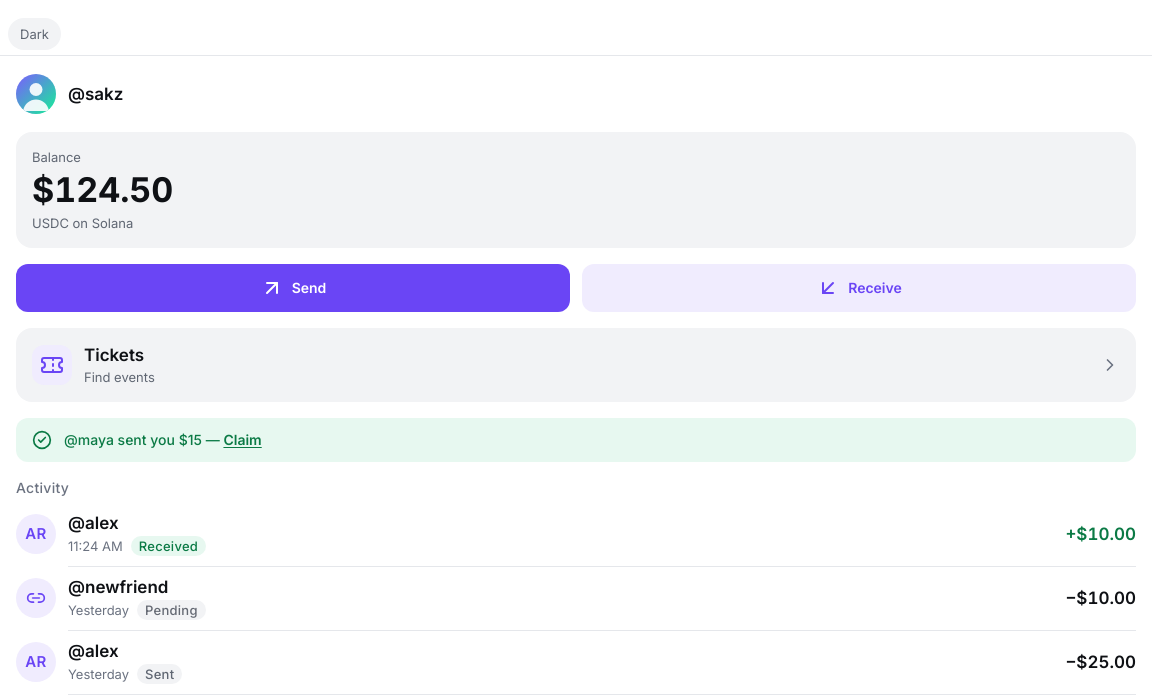
S10 activity detail › completed payment shows amount, counterparty, fee and note
Click the button with aria-label "Received 10 dollars from @alex" at coordinates (36, 534), box 16,502 -> 1136,566
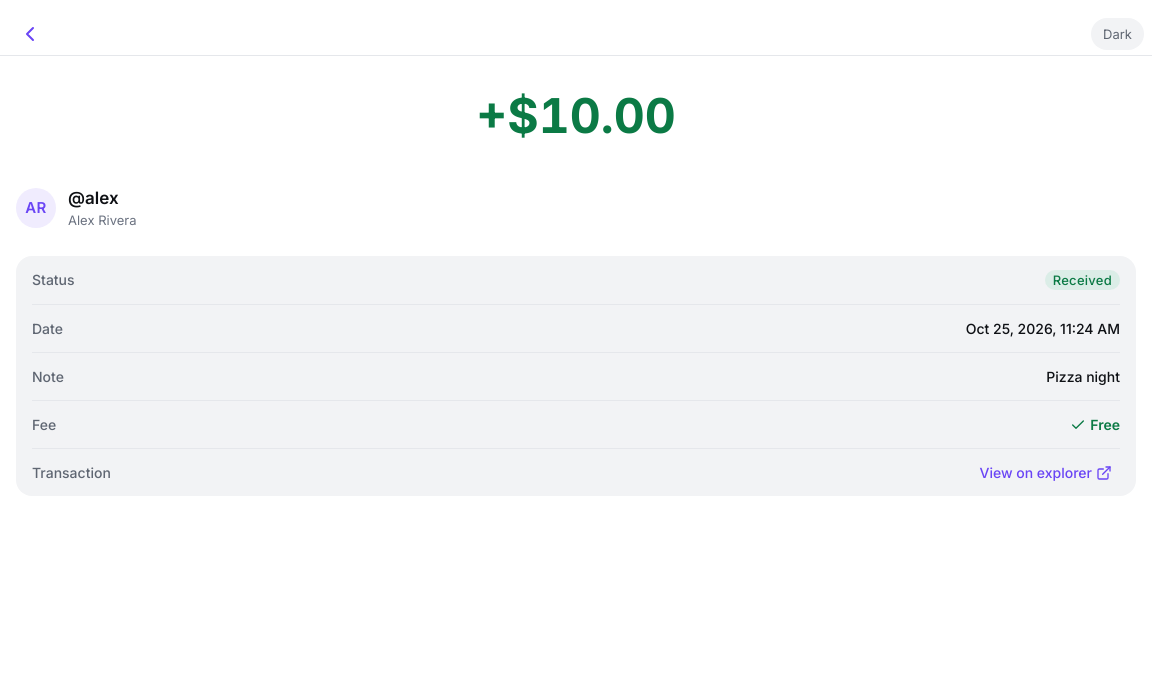
Expected: the text "Pizza night" is shown, 1046,366 -> 1120,386
Expected: the text "Status" is shown, 32,270 -> 75,290
Expected: the text "Date" is shown, 32,318 -> 63,338
